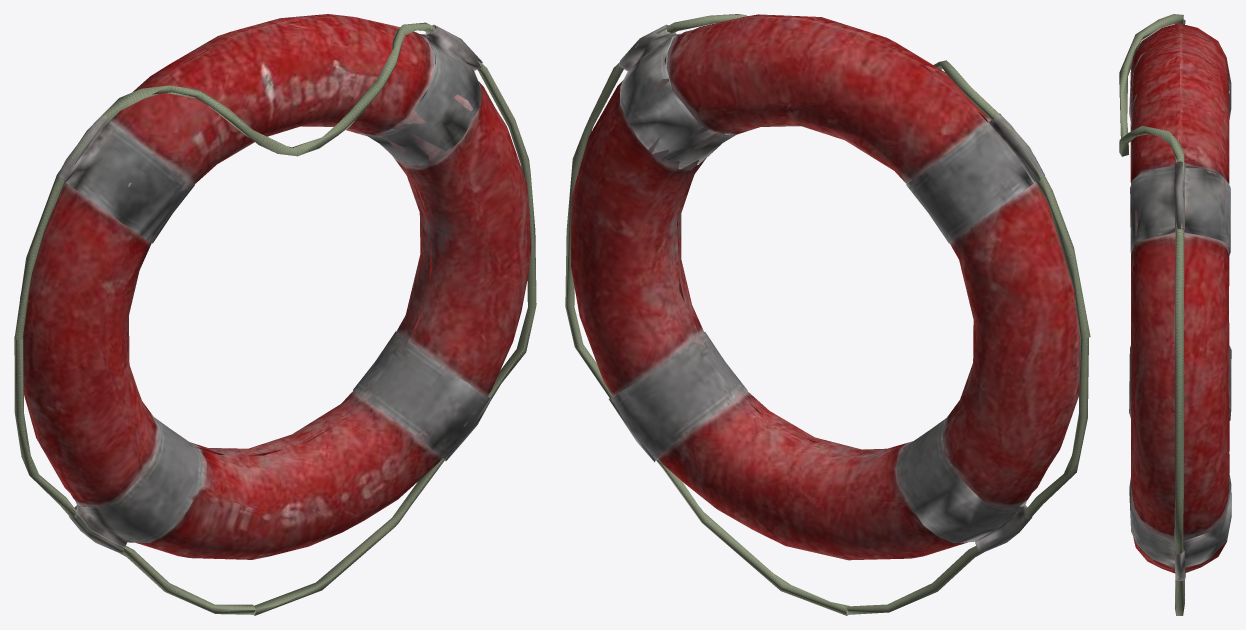
The model's file is lifebuoy.glb.
3 renders of one model, left to right at view 1: azimuth 30°, elevation 25°; view 2: azimuth 150°, elevation 25°; view 3: azimuth 270°, elevation 25°, orthographic. The views are drawn at different scales.
Parts seen in each view (by area): view 1: lifebuoy; view 2: lifebuoy; view 3: lifebuoy.
Part boxes in pixels (x1,y1,x2,y2): lifebuoy: (14, 14, 536, 615); lifebuoy: (565, 14, 1090, 615); lifebuoy: (1119, 14, 1231, 615).
Bounding box in the file's own units: 0.7856 × 0.8399 × 0.1548.
1 material, 1 textured.
